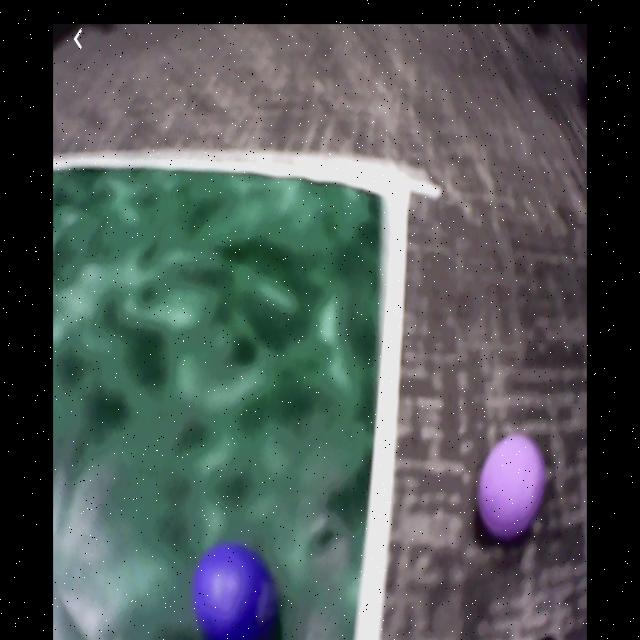ball: (197, 544, 274, 640), (478, 436, 544, 537)
